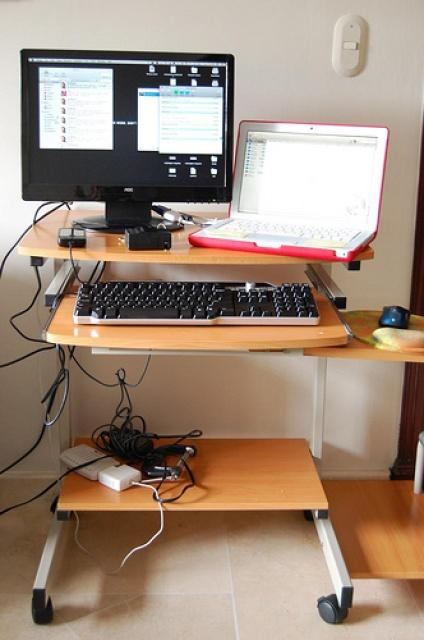AIO PC-Monitor-TV: (17, 47, 233, 204)
